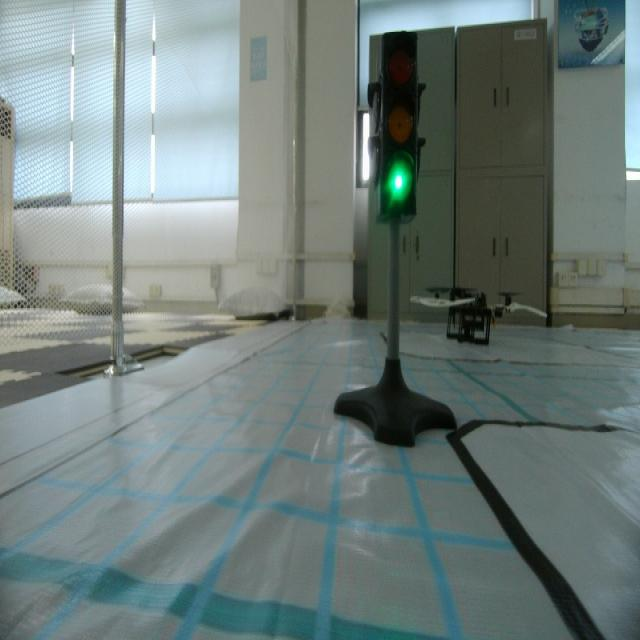green: (377, 31, 420, 220)
